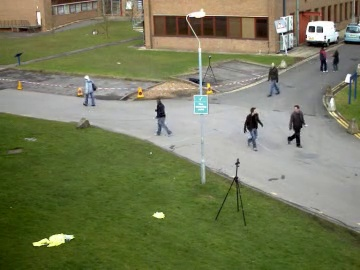person: (285, 104, 304, 148), (286, 104, 305, 147), (83, 76, 96, 107)
